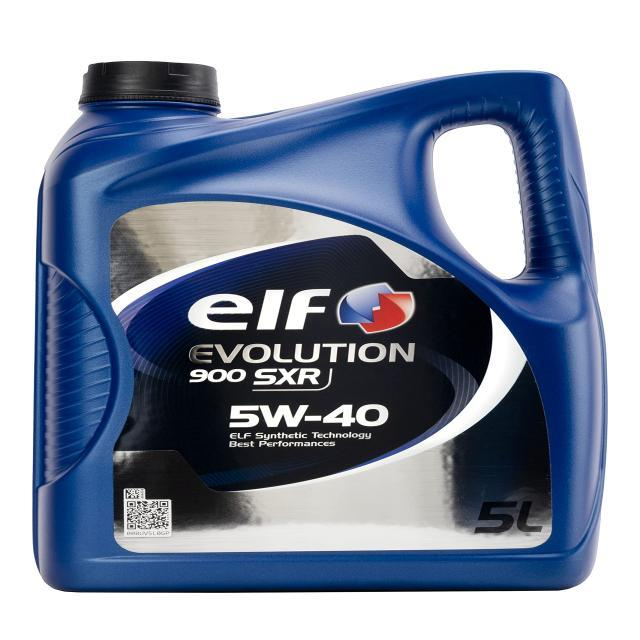motor_oil: (27, 52, 616, 598)
